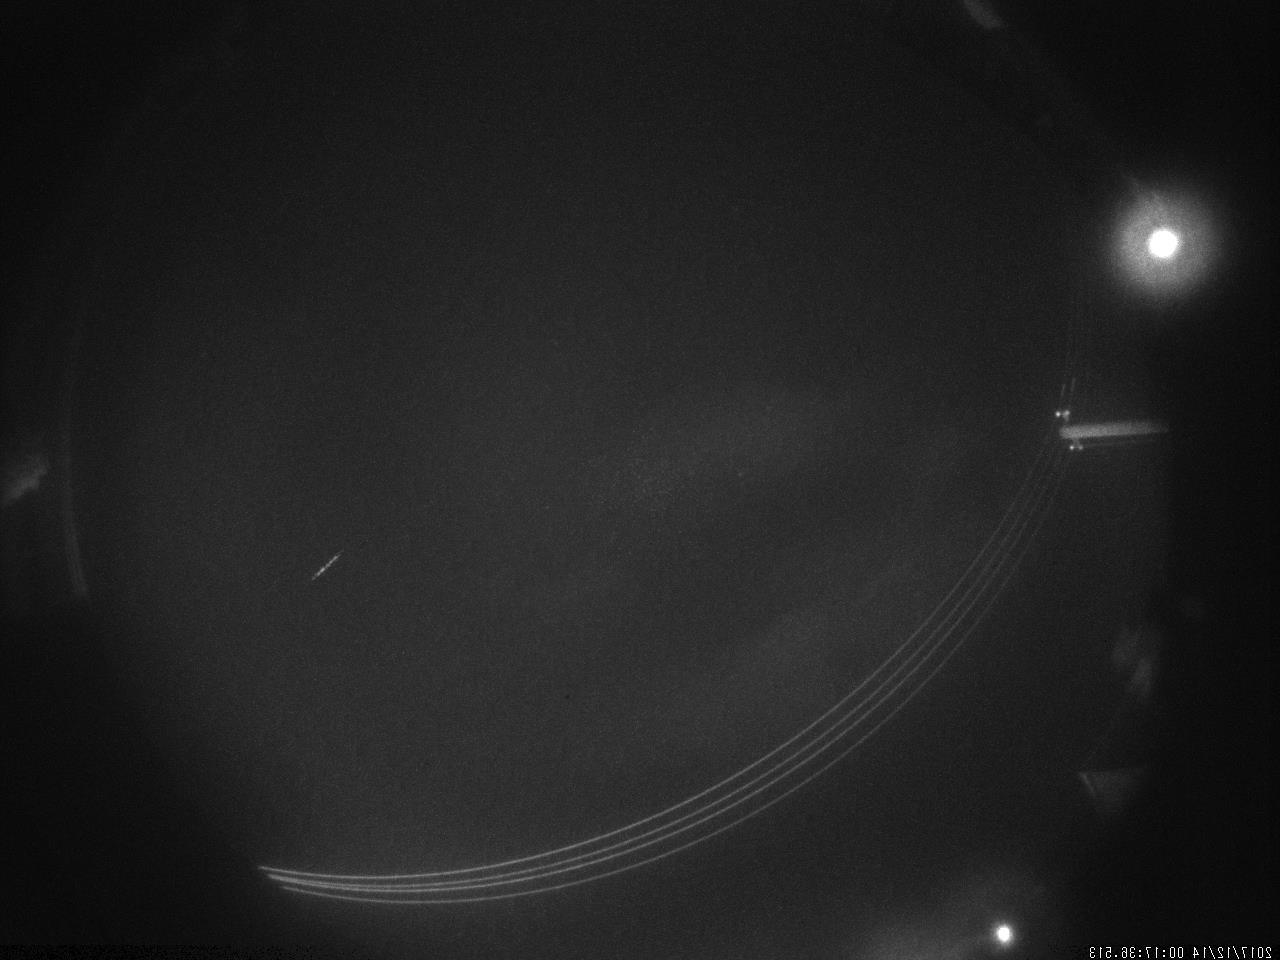meteor: (302, 542, 355, 595)
